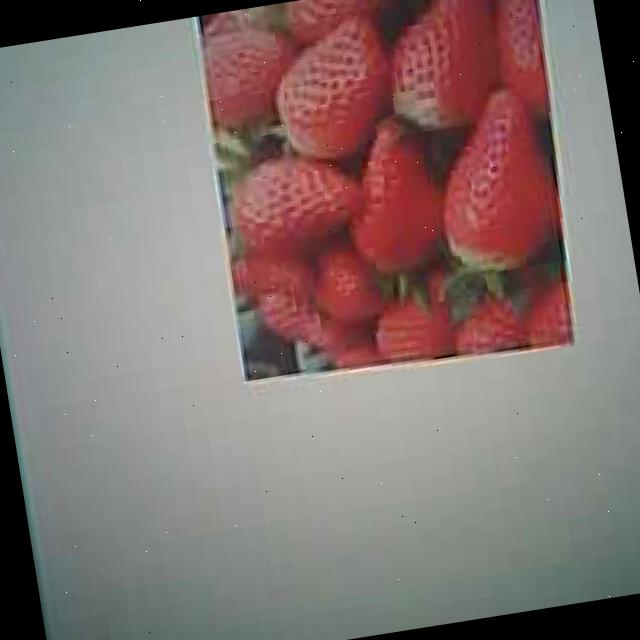strawberry: (428, 84, 568, 278), (266, 13, 403, 162), (339, 112, 453, 278), (379, 0, 515, 129), (228, 148, 364, 258)
